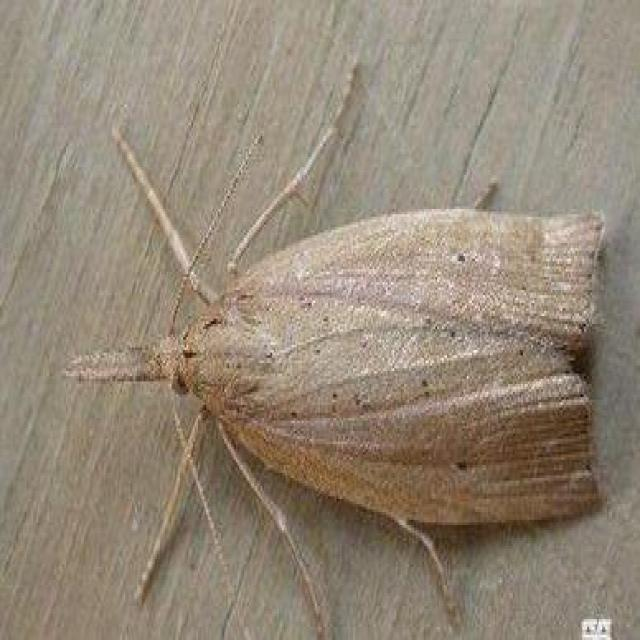yellow-stem-borer: (25, 92, 640, 640)
